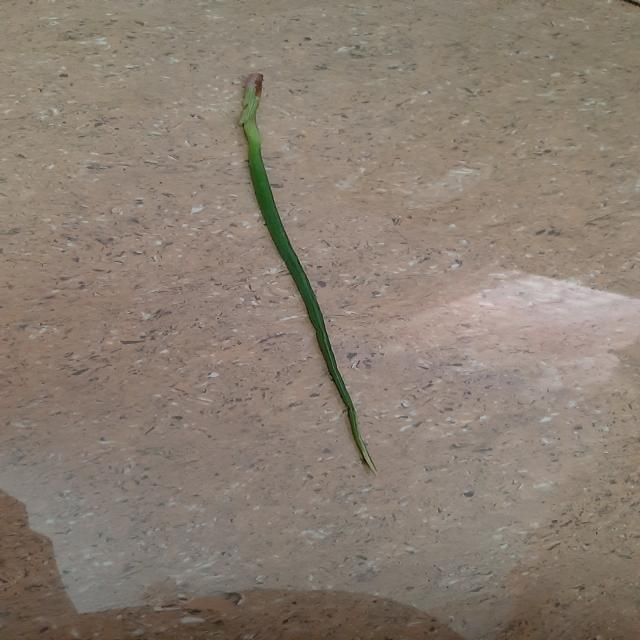onion: (238, 74, 377, 474)
